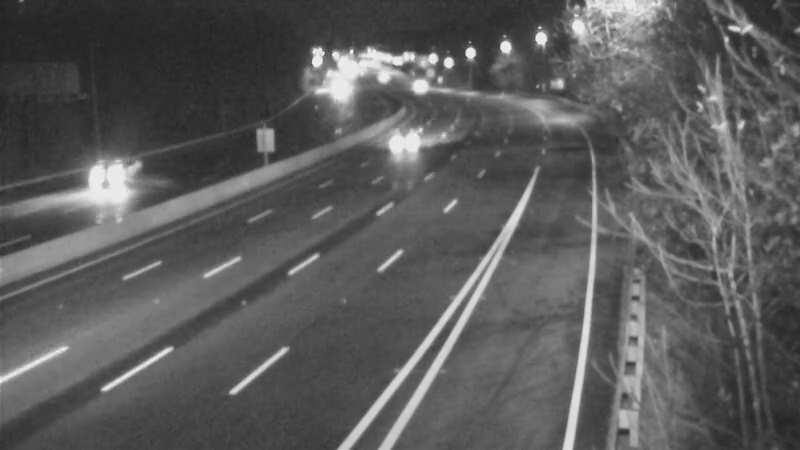vehicle: (66, 130, 146, 210), (388, 63, 438, 113), (378, 115, 428, 165)
